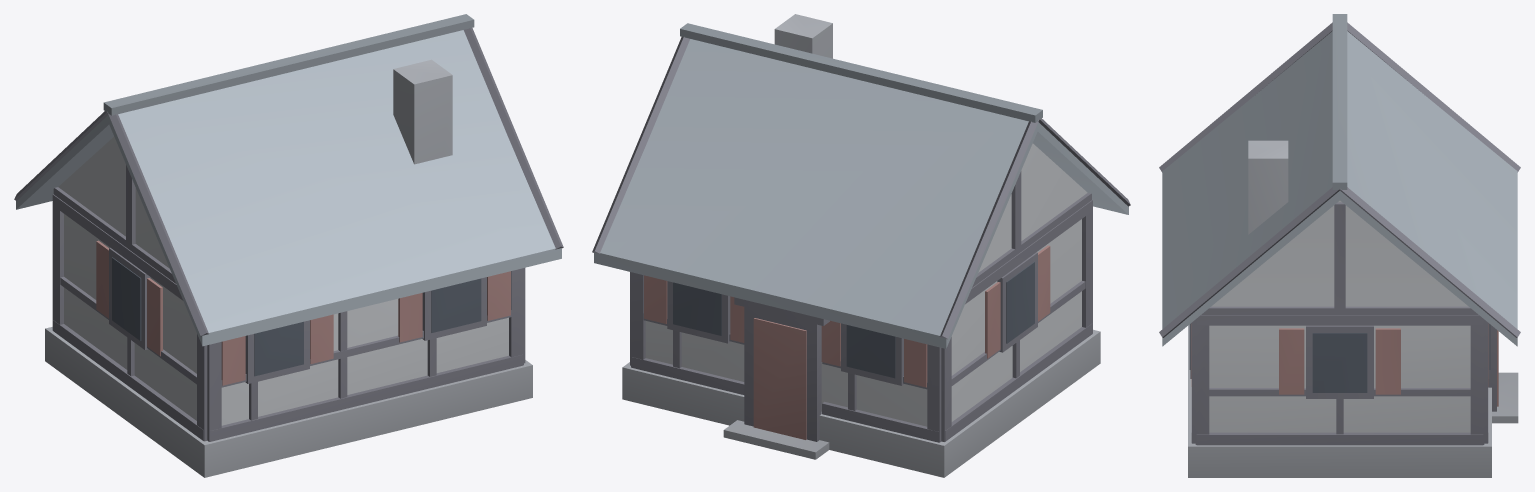
The model's file is cottage_frost.gltf.
The picture shows the model from 3 angles, left to right: view 1: azimuth 30°, elevation 25°; view 2: azimuth 150°, elevation 25°; view 3: azimuth 270°, elevation 25°; orthographic projection. The views are drawn at different scales.
Visible parts, largest first — view 1: Body; view 2: Body; view 3: Body.
Boxes of the visible parts, x1,y1,x2,y2 form: Body: [14, 14, 563, 477]; Body: [592, 14, 1130, 477]; Body: [1159, 14, 1520, 477].
Bounding box in the file's own units: 6.97 × 5.84 × 6.32.
